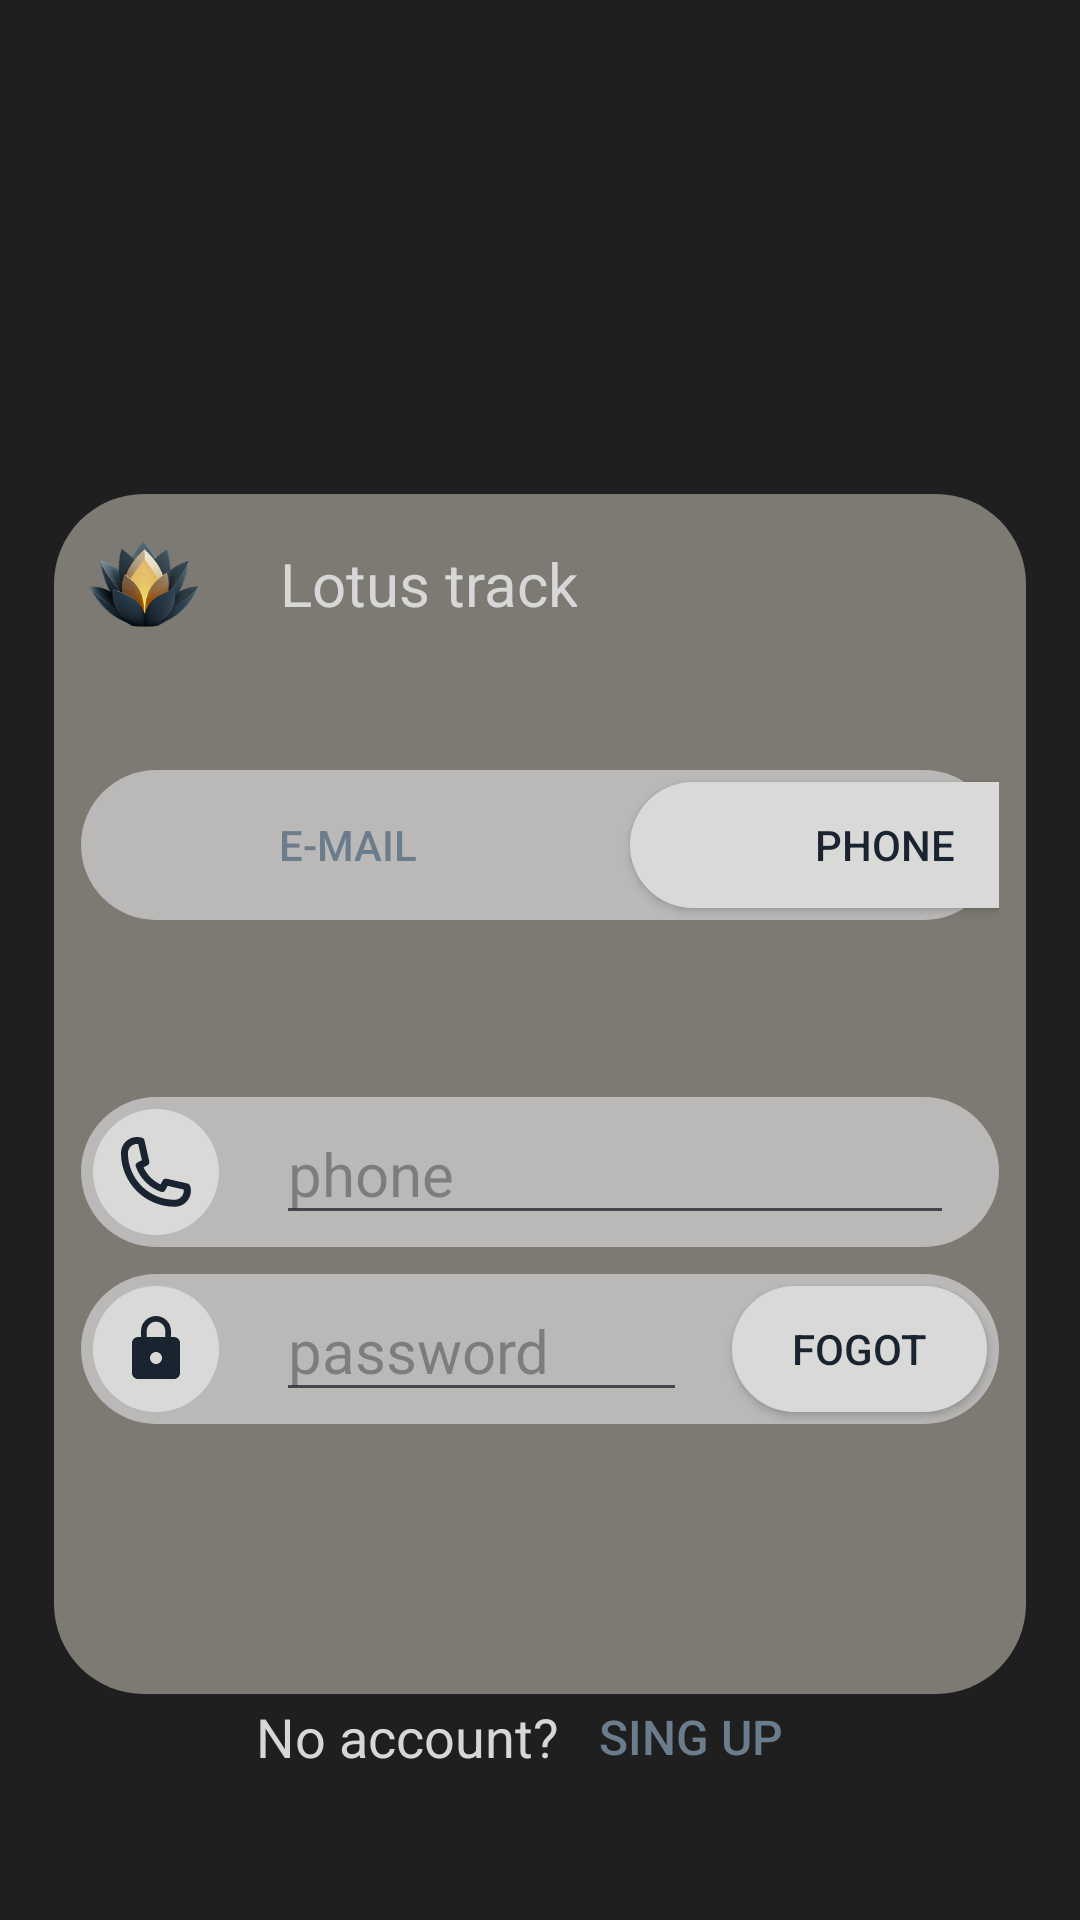

Icons on this 1080*1920 Android screen, each with its box as {"x1": x1, "y1": y1, "x2": x2, "y2": y2}:
lock: {"x1": 132, "y1": 1316, "x2": 180, "y2": 1379}
